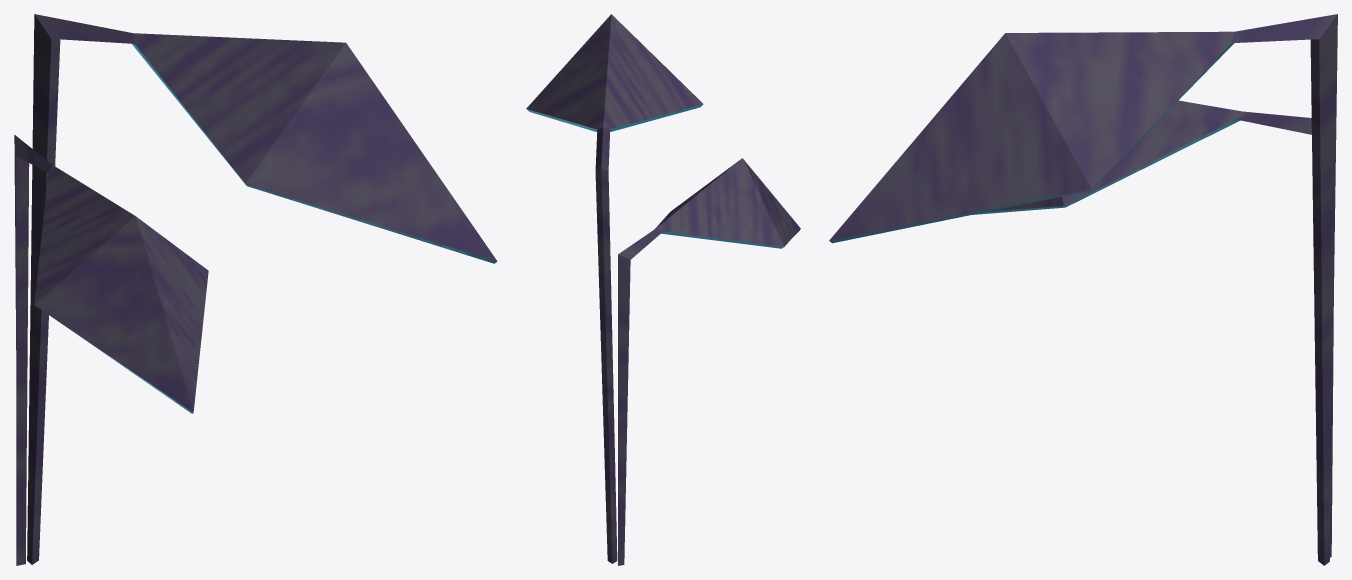
Rendered from Colony_Flower_Art.glb.
3 renders of one model, left to right at view 1: azimuth 30°, elevation 25°; view 2: azimuth 150°, elevation 25°; view 3: azimuth 270°, elevation 25°, orthographic. The views are drawn at different scales.
Parts seen in each view (by area): view 1: Colony_Flower_Art; view 2: Colony_Flower_Art; view 3: Colony_Flower_Art.
Part boxes in pixels (box(x1,y1,x2,y2)): Colony_Flower_Art: box(14, 14, 497, 565); Colony_Flower_Art: box(526, 14, 800, 565); Colony_Flower_Art: box(829, 14, 1337, 565).
Size of the model in its own units: 0.8172 by 1.33 by 1.01.
1 material, 1 textured.
